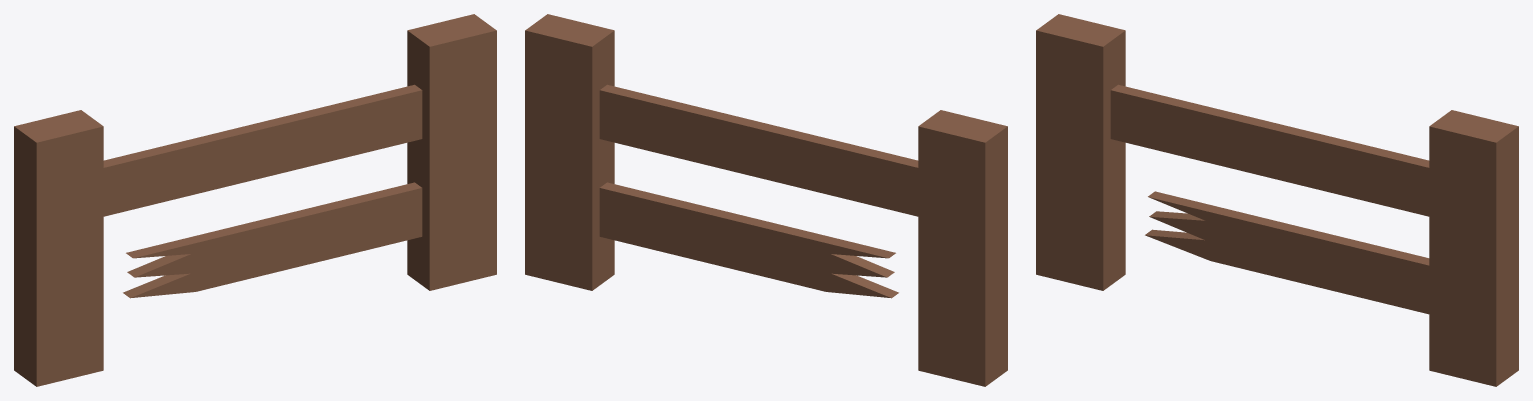
File: Fence3.fbx
3 views of the same model, side by side, from view 1: azimuth 30°, elevation 25°; view 2: azimuth 150°, elevation 25°; view 3: azimuth 330°, elevation 25° (orthographic).
Visible parts, largest first — view 1: Cube.002; view 2: Cube.002; view 3: Cube.002.
Boxes of the visible parts, x1=… form: Cube.002: x1=14, y1=14, x2=496, y2=386; Cube.002: x1=525, y1=14, x2=1007, y2=386; Cube.002: x1=1036, y1=14, x2=1518, y2=386.
Size of the model in its own units: 193 by 97.65 by 16.32.
